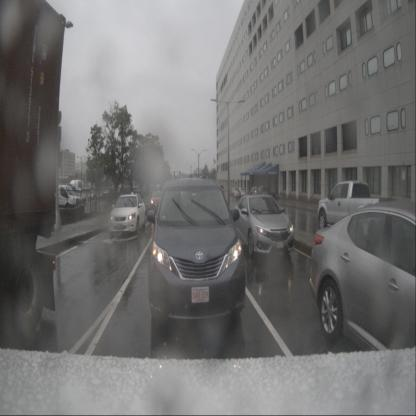vehicle-car: (309, 199, 415, 366), (148, 178, 246, 325), (231, 194, 295, 257), (108, 194, 146, 235), (40, 185, 84, 214), (150, 192, 164, 212), (248, 186, 262, 198), (229, 187, 241, 200), (87, 190, 98, 200), (236, 188, 246, 197), (96, 190, 105, 200), (132, 186, 140, 194), (104, 188, 110, 196)
vehicle-truck: (317, 180, 400, 249), (254, 185, 278, 204)
